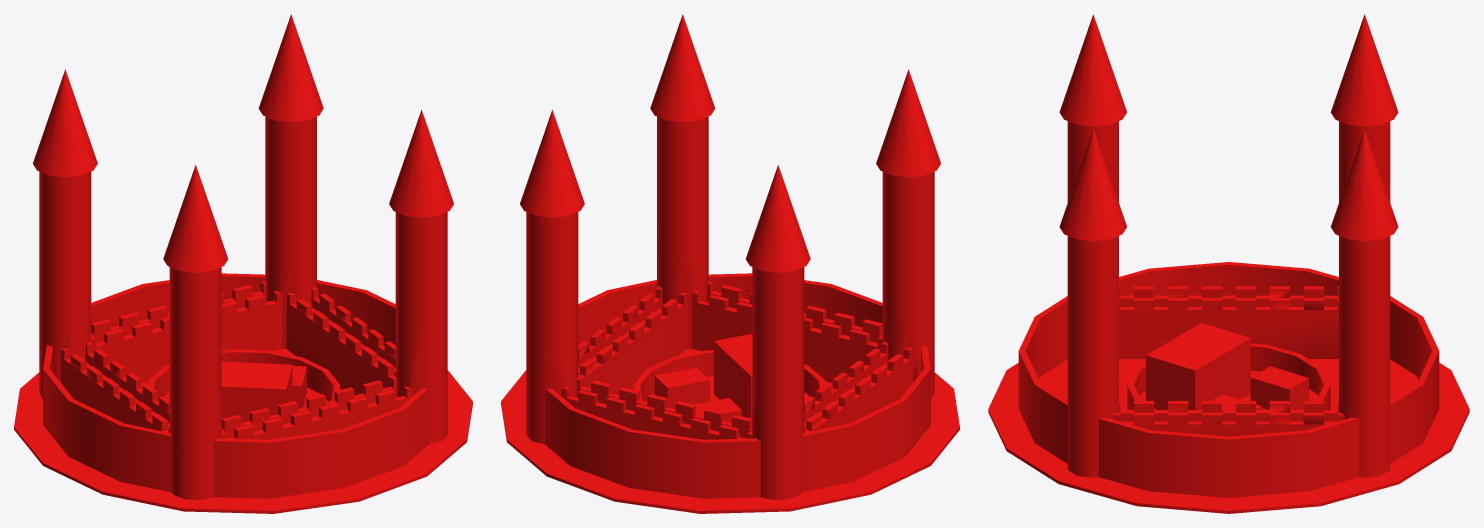
3 renders of one model, left to right at view 1: azimuth 30°, elevation 25°; view 2: azimuth 150°, elevation 25°; view 3: azimuth 270°, elevation 25°, orthographic. The views are drawn at different scales.
Parts seen in each view (by area): view 1: wall001, Box001; view 2: wall001, Box001; view 3: wall001, Box001.
Boxes of the visible parts, left/top/right/bottom form: wall001: left=33, top=14, right=453, bottom=499; Box001: left=14, top=273, right=472, bottom=513; wall001: left=520, top=14, right=940, bottom=499; Box001: left=501, top=273, right=959, bottom=513; wall001: left=1059, top=14, right=1398, bottom=477; Box001: left=988, top=262, right=1469, bottom=513.
Bounding box in the file's own units: 142 × 111 × 142.
